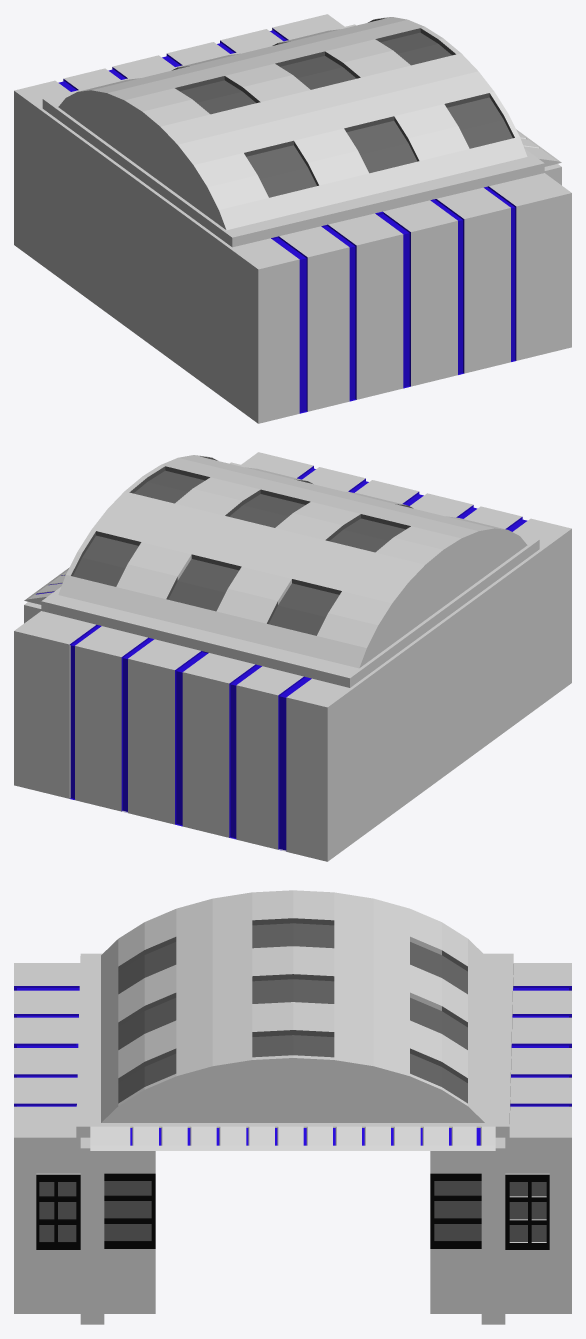
File: spawn.fbx
3 views of the same model, one above another, from view 1: azimuth 30°, elevation 25°; view 2: azimuth 150°, elevation 25°; view 3: azimuth 270°, elevation 25° (orthographic). The views are drawn at different scales.
Visible parts, largest first — view 1: Cylinder; view 2: Cylinder; view 3: Cylinder.
Part boxes in pixels (left/top/right/bottom): Cylinder: left=14, top=14, right=571, bottom=423; Cylinder: left=14, top=452, right=571, bottom=861; Cylinder: left=14, top=890, right=571, bottom=1324.
Size of the model in its own units: 1214 by 761 by 1524.
